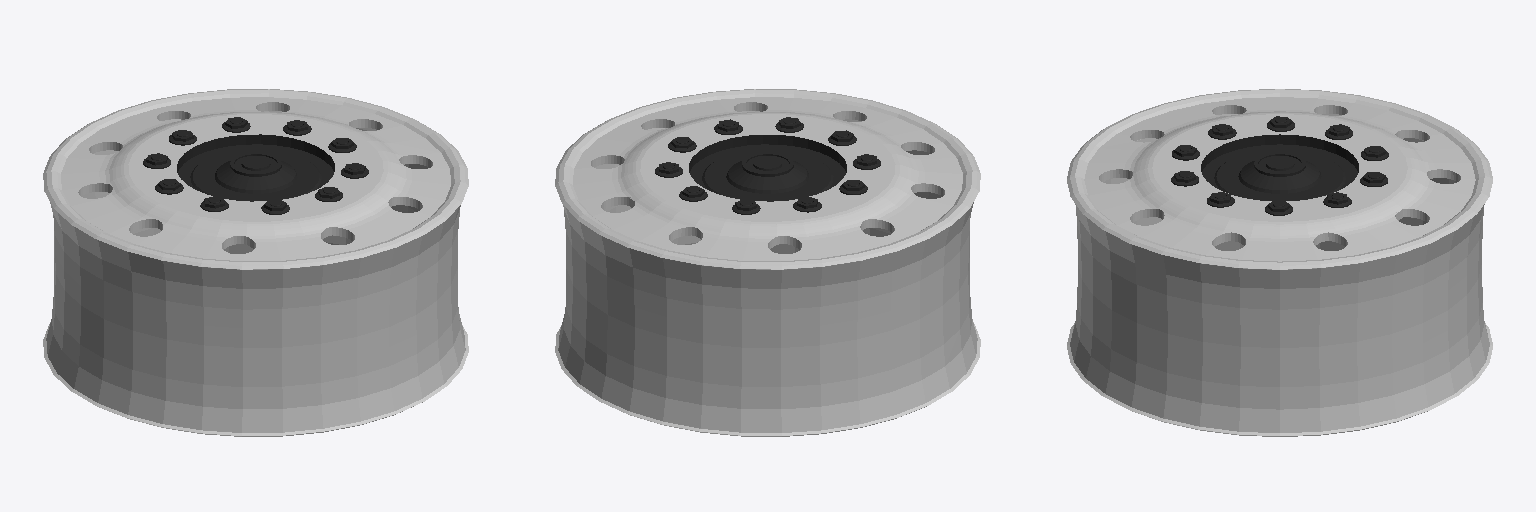
The model's file is uaz_rim.obj.
3 views of the same model, side by side, from view 1: azimuth 30°, elevation 25°; view 2: azimuth 150°, elevation 25°; view 3: azimuth 270°, elevation 25° (orthographic).
Parts seen in each view (by area): view 1: Metal_Cylinder.001, Center(black)_Cylinder.000, Nuts_Cylinder.000; view 2: Metal_Cylinder.001, Center(black)_Cylinder.000, Nuts_Cylinder.000; view 3: Metal_Cylinder.001, Center(black)_Cylinder.000, Nuts_Cylinder.000.
Part boxes in pixels (left/top/right/bottom): Metal_Cylinder.001: left=43, top=89, right=468, bottom=436; Center(black)_Cylinder.000: left=177, top=134, right=334, bottom=201; Nuts_Cylinder.000: left=143, top=117, right=368, bottom=214; Metal_Cylinder.001: left=555, top=89, right=980, bottom=436; Center(black)_Cylinder.000: left=689, top=135, right=846, bottom=201; Nuts_Cylinder.000: left=655, top=117, right=880, bottom=214; Metal_Cylinder.001: left=1067, top=89, right=1492, bottom=436; Center(black)_Cylinder.000: left=1201, top=134, right=1358, bottom=200; Nuts_Cylinder.000: left=1171, top=116, right=1388, bottom=215.
Size of the model in its own units: 0.4606 by 0.2236 by 0.4606.